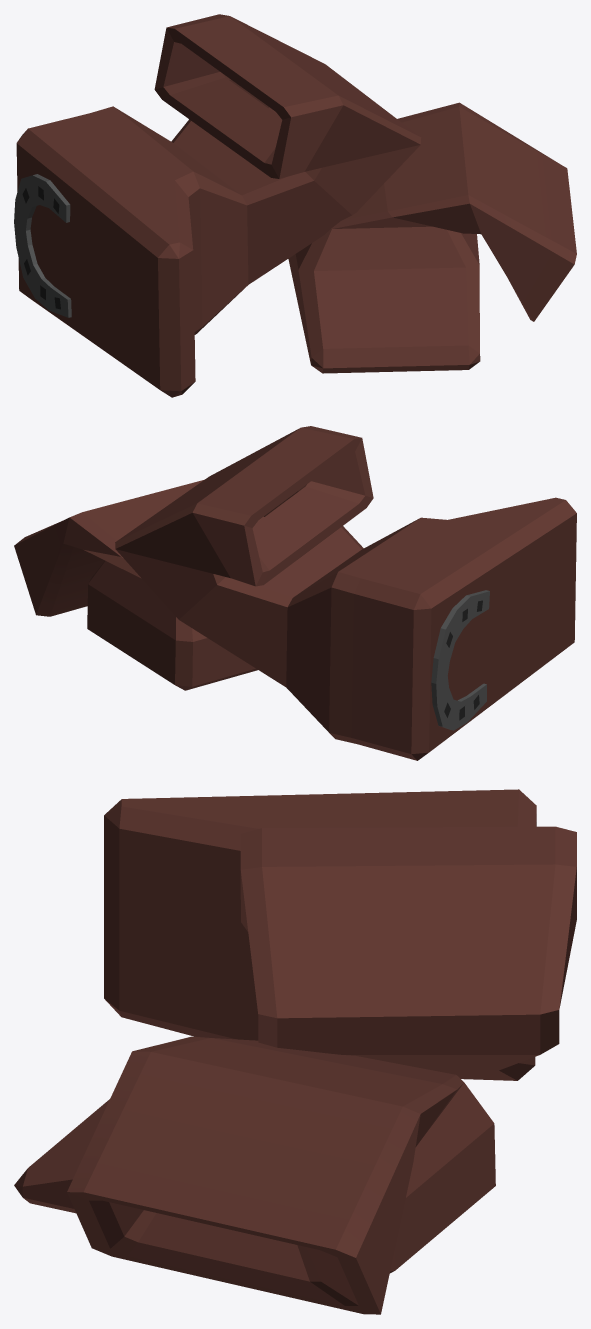
The model's file is shoes_2.fbx.
3 views of the same model, one above another, from view 1: azimuth 30°, elevation 25°; view 2: azimuth 150°, elevation 25°; view 3: azimuth 270°, elevation 25° (orthographic). The views are drawn at different scales.
Visible parts, largest first — view 1: shoes_2; view 2: shoes_2; view 3: shoes_2.
Boxes of the visible parts, x1=… form: shoes_2: x1=14, y1=14, x2=576, y2=397; shoes_2: x1=14, y1=426, x2=576, y2=760; shoes_2: x1=14, y1=789, x2=576, y2=1314.
Size of the model in its own units: 30.77 by 13.46 by 22.26.
